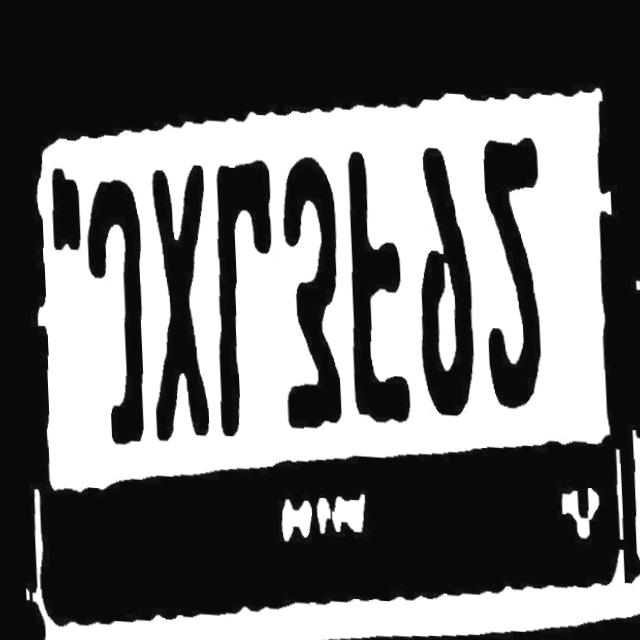2: (478, 118, 548, 408)
3: (275, 147, 344, 431)
9: (407, 133, 477, 422)
f: (339, 143, 409, 430)
j: (80, 150, 150, 462)
l: (206, 153, 280, 442)
x: (141, 152, 212, 442)
